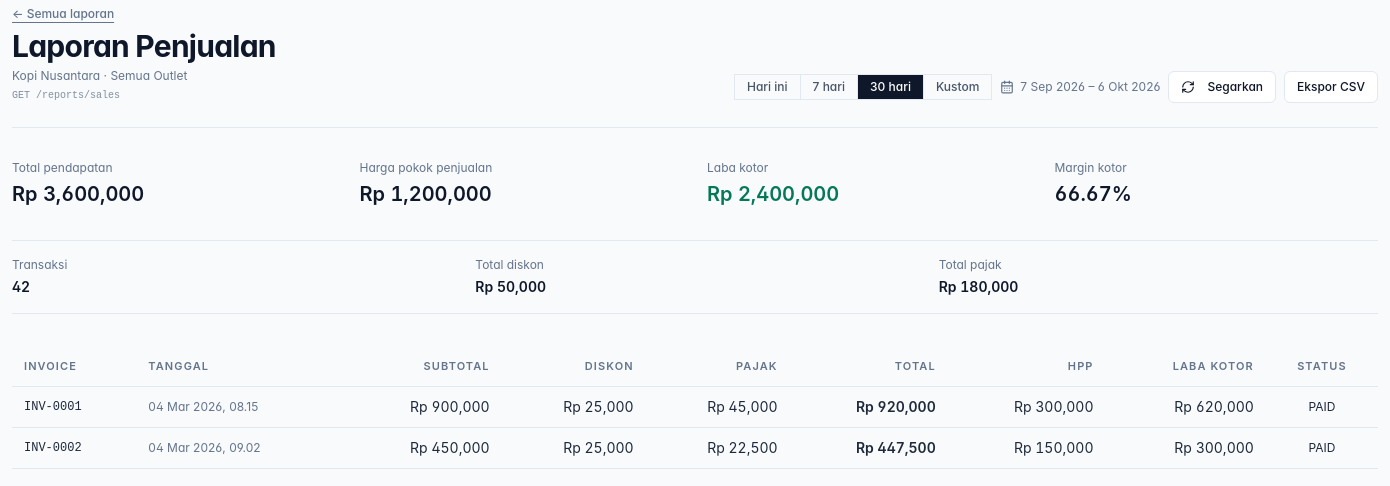
Test case: Phase 7 — Reports workspace › CSV export › surfaces an export failure instead of pretending a file was produced
Check: the text "INV-0001" is shown, box [12, 386, 136, 428]
Click the button "Ekspor CSV" at (1331, 87), box [1284, 71, 1378, 103]
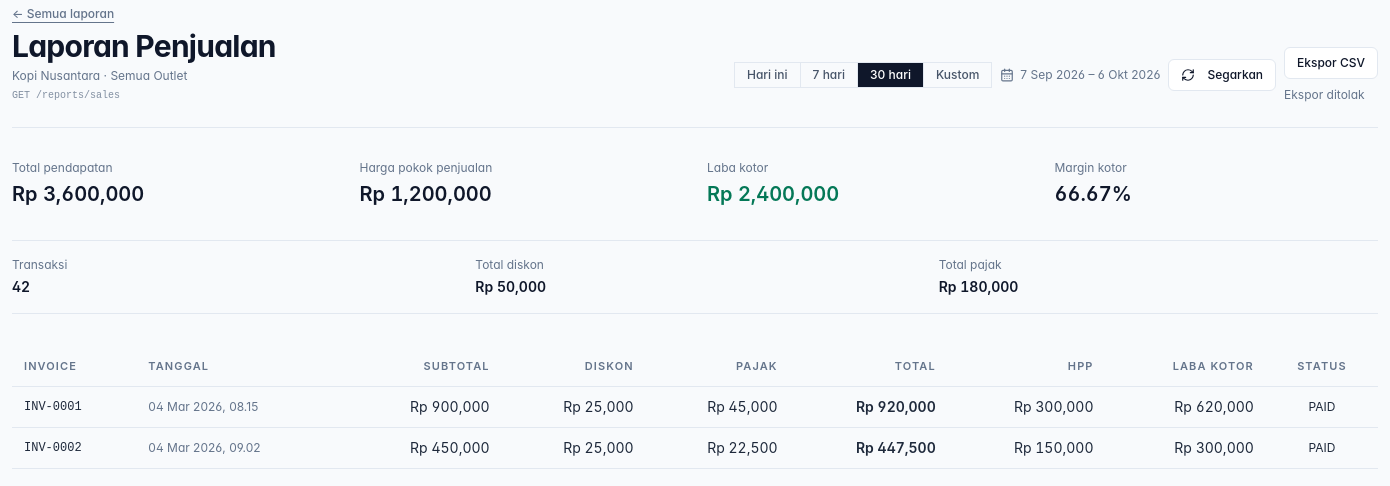
Check: the text "Ekspor ditolak" is shown, box [1284, 87, 1378, 103]
